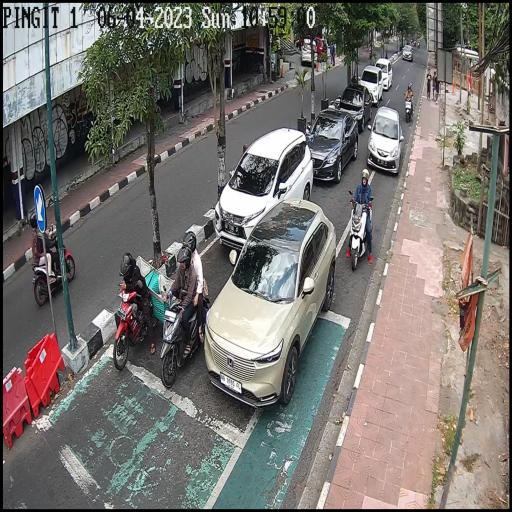mobil: (202, 200, 337, 412), (218, 128, 314, 247), (304, 108, 358, 182), (368, 106, 402, 174), (337, 82, 373, 132), (359, 62, 384, 107), (376, 57, 392, 90), (402, 43, 414, 63)
motor: (158, 281, 210, 388), (114, 277, 160, 372), (346, 189, 375, 267), (403, 92, 414, 121)
